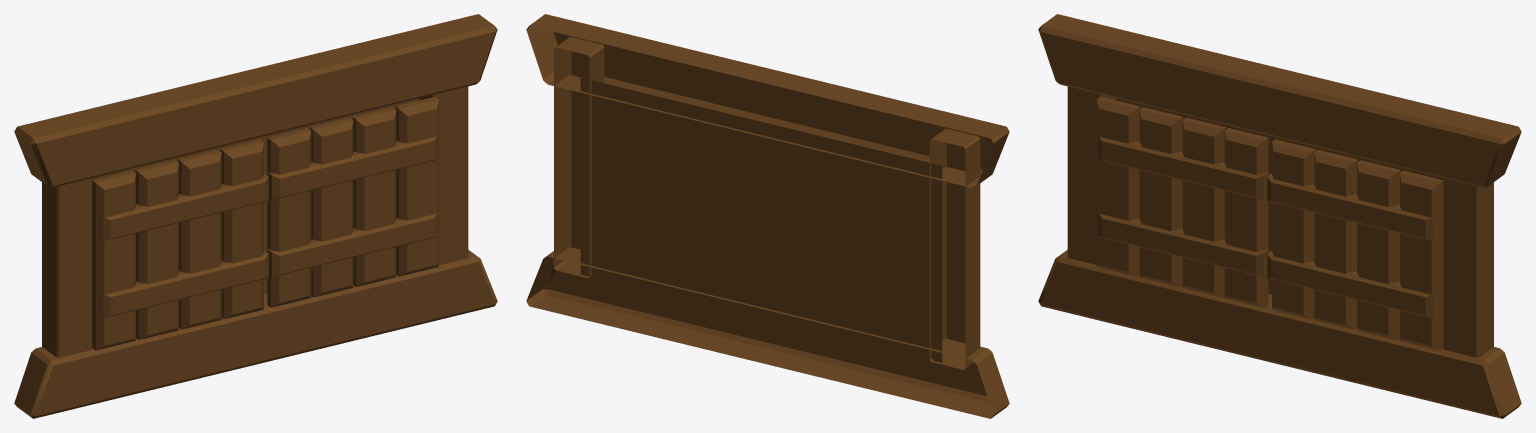
The model's file is VentanaDoble2.fbx.
3 renders of one model, left to right at view 1: azimuth 30°, elevation 25°; view 2: azimuth 150°, elevation 25°; view 3: azimuth 330°, elevation 25°, orthographic.
Visible parts, largest first — view 1: Ventana1; view 2: Ventana1; view 3: Ventana1.
Part boxes in pixels (x1,y1,x2,y2): Ventana1: (14, 14, 497, 418); Ventana1: (526, 14, 1009, 418); Ventana1: (1038, 14, 1521, 418).
Bounding box in the file's own units: 0.6512 × 0.3736 × 0.0597.
